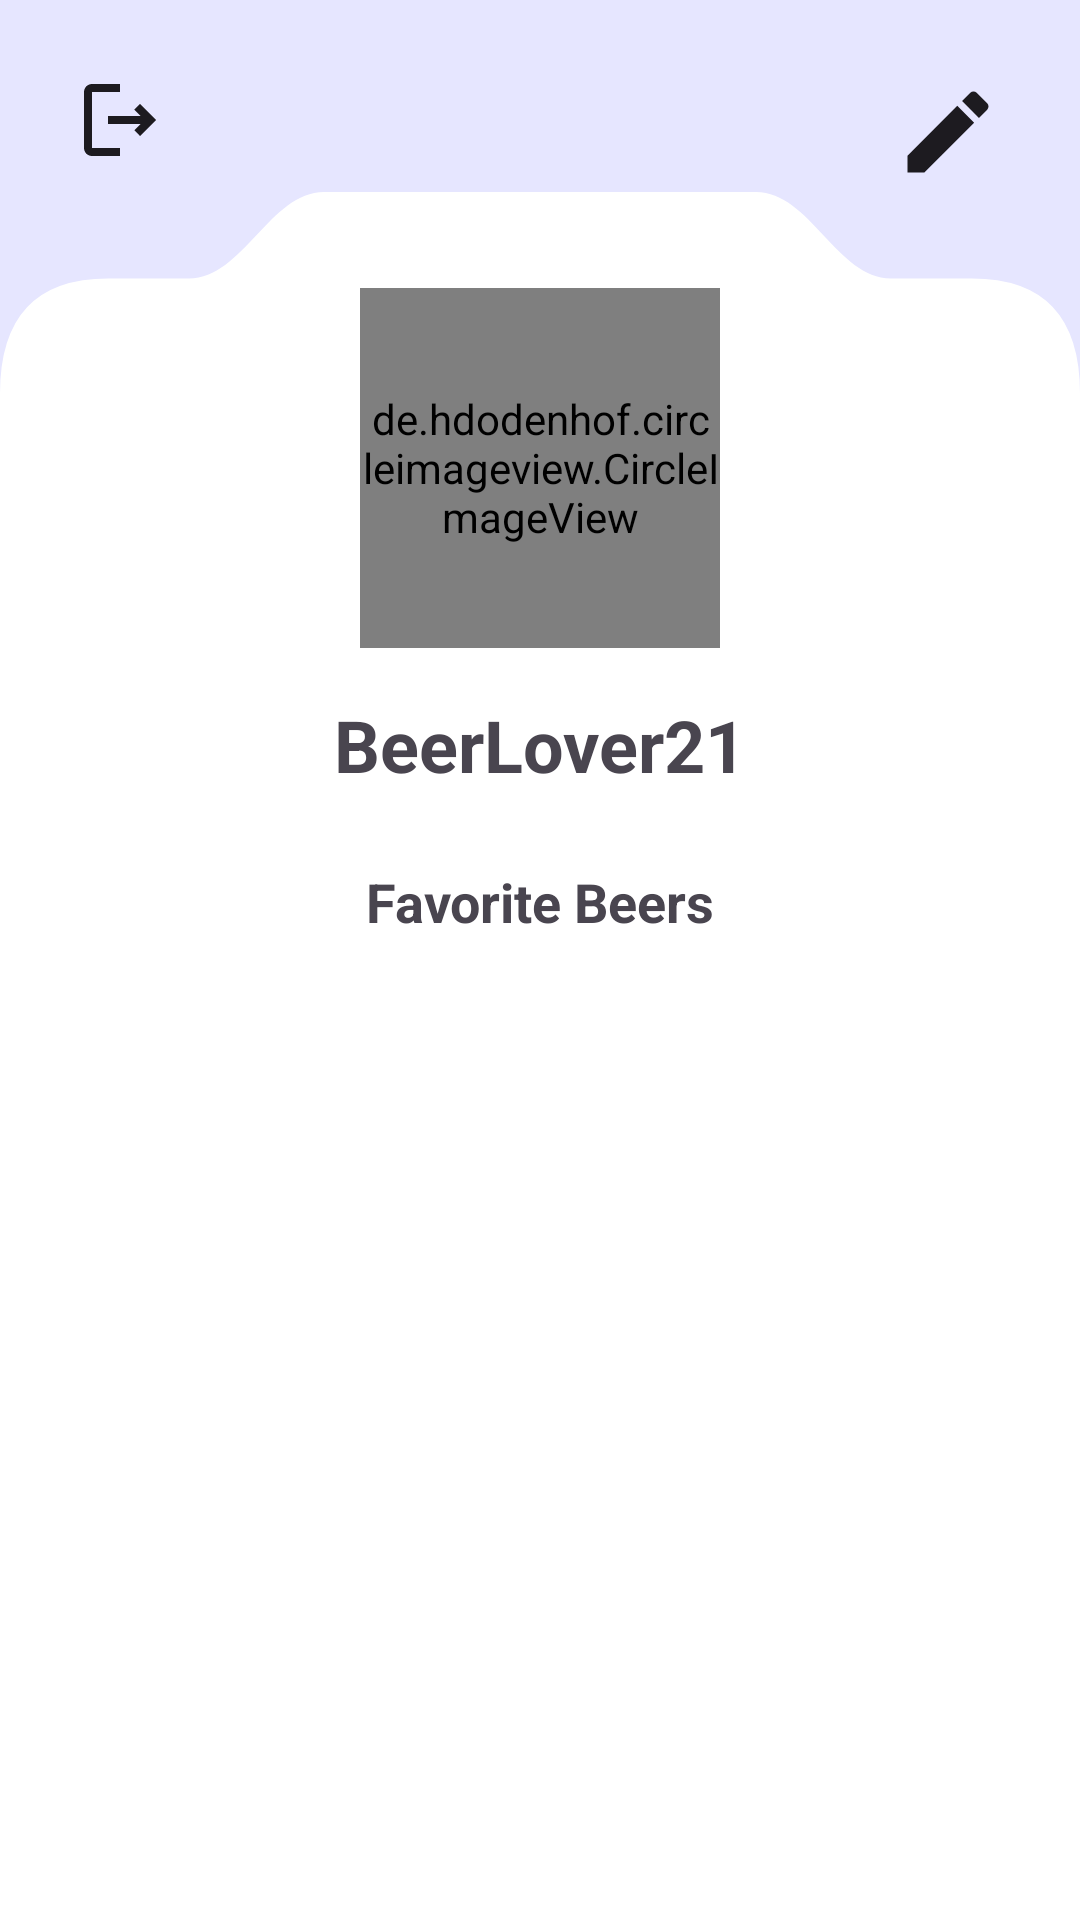

Point at icon controls on the screen. Image size 1080 x 1920, points as (x=x, y=y).
edit: (x=948, y=132)
